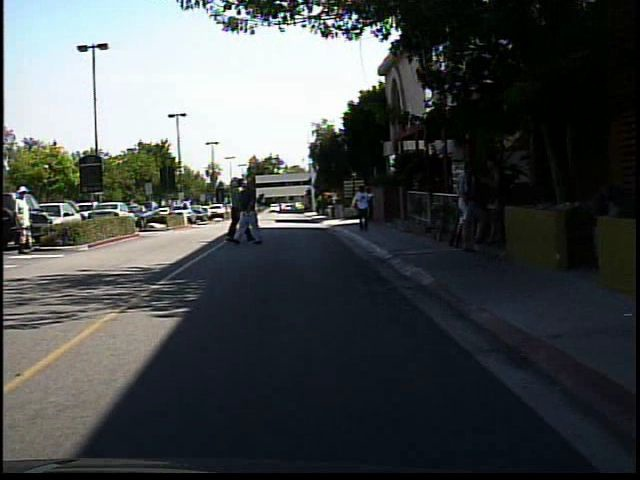person: (447, 150, 487, 258), (480, 158, 508, 251), (225, 173, 258, 247), (230, 176, 265, 245), (14, 183, 40, 255), (350, 180, 376, 237), (181, 193, 197, 224), (246, 197, 261, 222)
